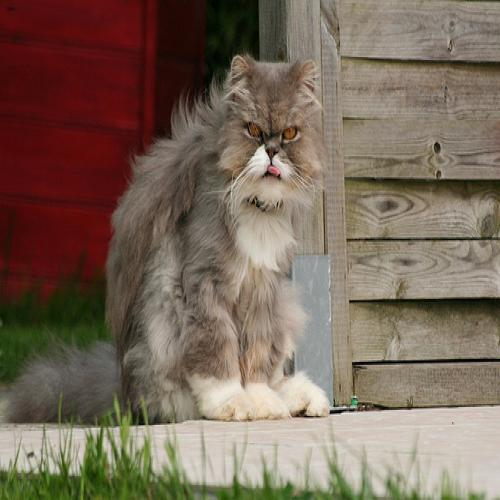persian: (221, 45, 328, 226)
